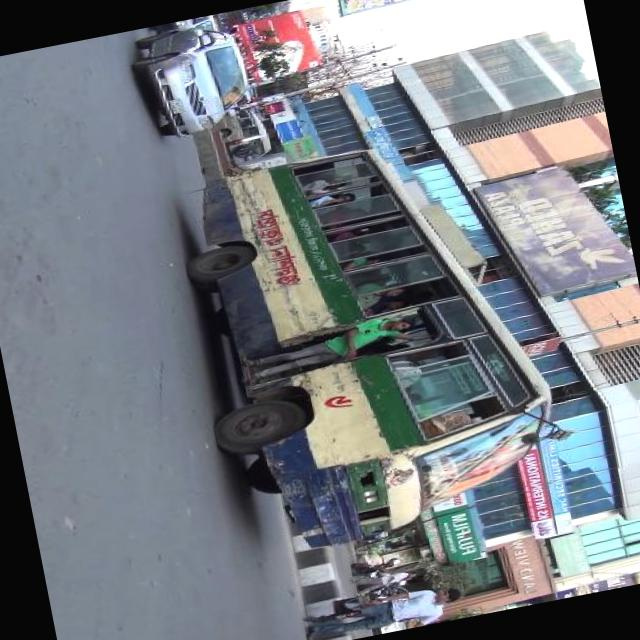bus: (159, 113, 592, 570)
car: (124, 17, 260, 146), (211, 102, 281, 170)
motorcycle: (347, 553, 405, 582)
